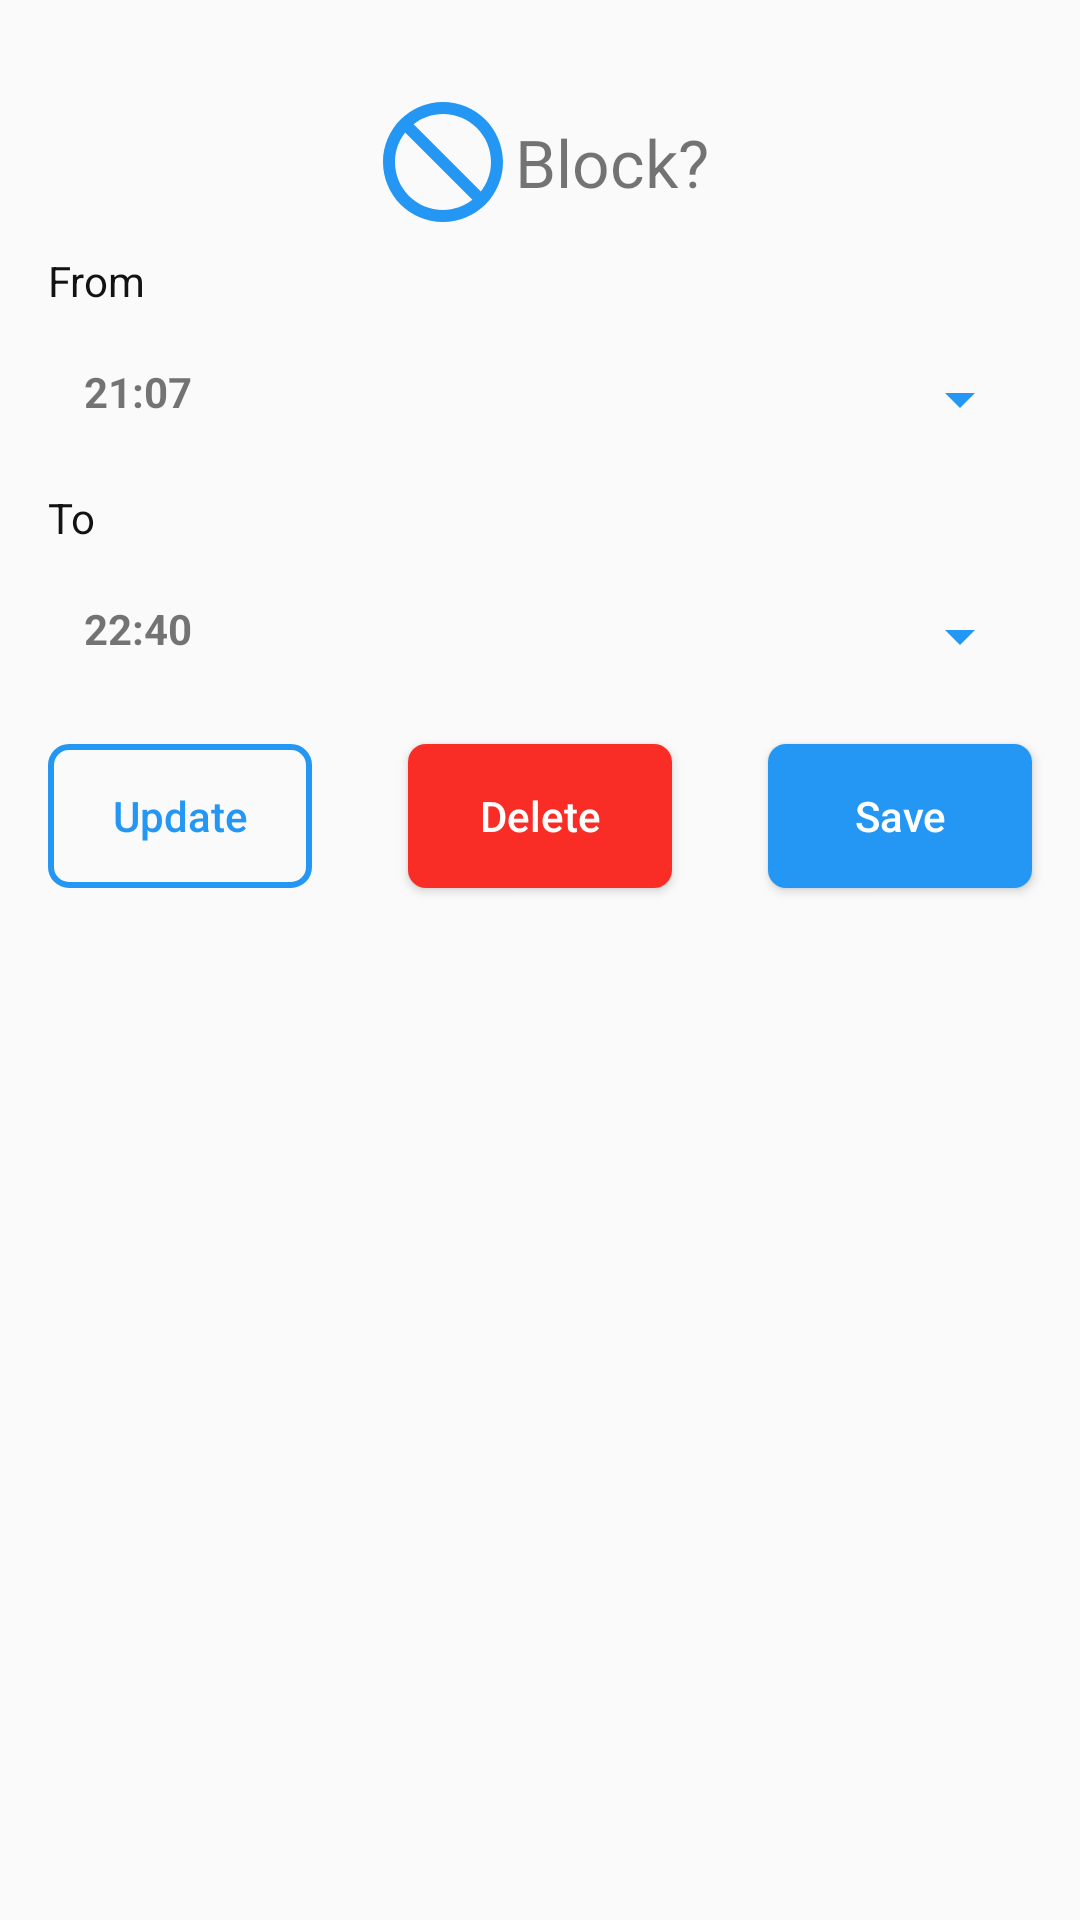

Screen size 1080w x 1920h. Icon name, then its center in pixels as (x=x, y=y):
not interested: (x=443, y=162)
